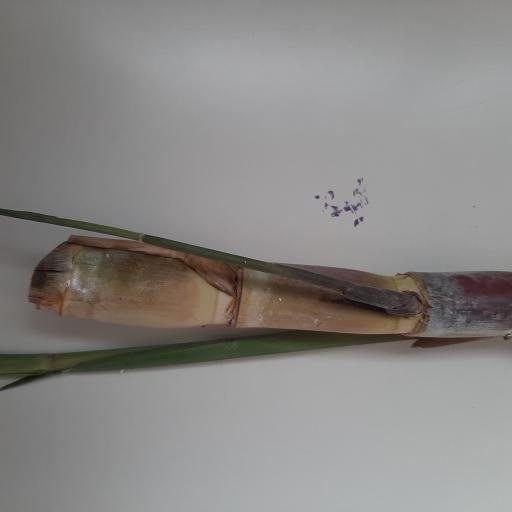Sprouted_Bud: (361, 289, 425, 317)
